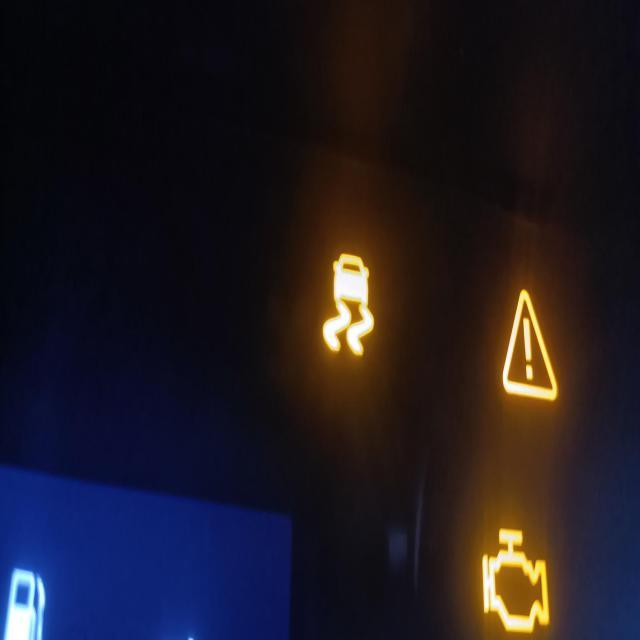CriticalWarning: (498, 269, 561, 408)
EngineWarning: (474, 503, 554, 639)
LowFuel: (1, 552, 52, 638)
TractionControl: (318, 230, 379, 374)
